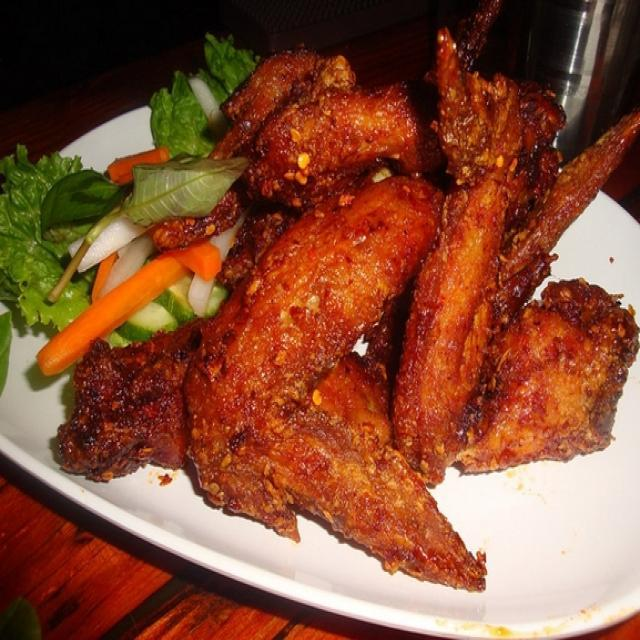Deep fried chicken wing: (198, 90, 633, 546)
